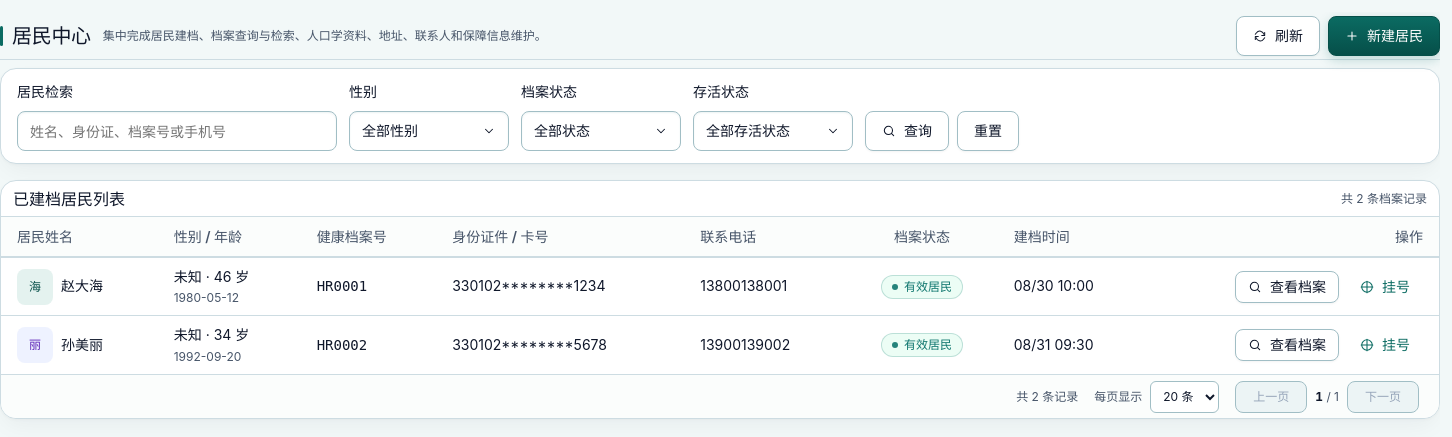
ResidentCenterWorkspace › rejects mismatched or incomplete profile data: {"resident":{"id":"resident-2","healthRecordNo":"HR0002","fullName":"孙美丽","gender":"2","birthDate":"1992-09-20","
Click the button "查看档案" in the row of "赵大海" at (1287, 287), box left=1235, top=271, right=1339, bottom=303
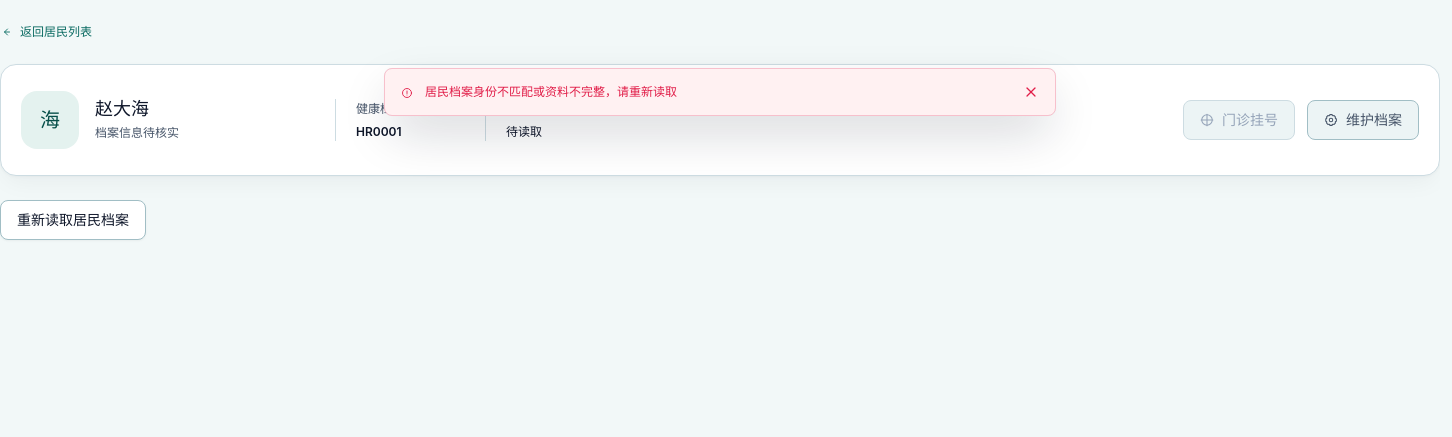
Check: the button "重新读取居民档案" is shown, box left=0, top=200, right=146, bottom=240
Check: the button "门诊挂号" is disabled, box left=1183, top=100, right=1295, bottom=140
Check: the button "维护档案" is disabled, box left=1307, top=100, right=1419, bottom=140
